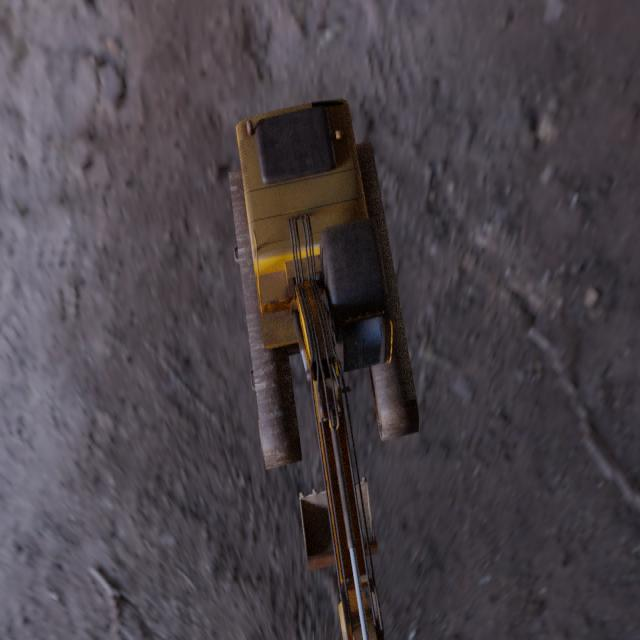excavator: (228, 97, 419, 640)
